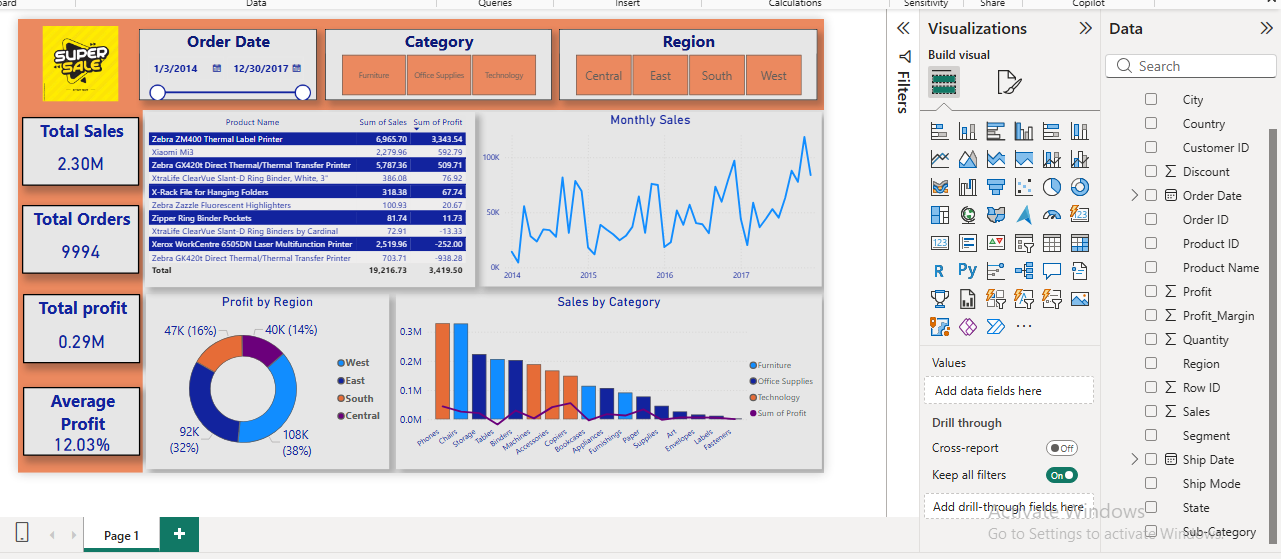

The page's visual inventory and layout, read from the dashboard file:
{"tool":"powerbi","page":{"name":"Page 1","canvas":[1280,720],"ordinal":0},"visuals":[{"type":"shape","box":[0,0,1279.8,144.6],"z":0},{"type":"shape","box":[0,133.2,198.4,586.8],"z":1000},{"type":"image","box":[22.7,11.3,154.5,120.5],"z":2000},{"type":"card","title":"Total Sales","fields":{"Values":["Sum(Sample_ Superstore(in).Sales)"]},"box":[5.7,155.9,185.7,109.1],"z":3000},{"type":"card","title":"Total Orders","fields":{"Values":["CountNonNull(Sample_ Superstore(in).Customer ID)"]},"box":[7.1,294.8,185.7,109.1],"z":4000},{"type":"card","title":"Average Profit","fields":{"Values":["Avg(Sample_ Superstore(in).Profit_Margin)"]},"box":[7.1,584.3,185.7,108.6],"z":5000},{"type":"card","title":"Total profit","fields":{"Values":["Sum(Sample_ Superstore(in).Profit)"]},"box":[7.1,437.1,185.7,110],"z":6000},{"type":"slicer","title":"Order Date","fields":{"Values":["Sample_ Superstore(in).Order Date"]},"box":[192.8,15.6,282,113.4],"z":7000},{"type":"slicer","title":"Category","fields":{"Values":["Sample_ Superstore(in).Category"]},"box":[487.6,15.6,360,113.4],"z":8000},{"type":"slicer","title":"Region","fields":{"Values":["Sample_ Superstore(in).Region"]},"box":[858.9,15.6,409.6,113.4],"z":9000},{"type":"donutChart","title":"Profit by Region","fields":{"Category":["Sample_ Superstore(in).Region"],"Y":["Sum(Sample_ Superstore(in).Profit)"]},"box":[202.8,437,385.6,278.2],"z":10000},{"type":"lineStackedColumnComboChart","title":"Sales by Category","fields":{"Y":["Sum(Sample_ Superstore(in).Sales)"],"Category":["Sample_ Superstore(in).Sub-Category"],"Series":["Sample_ Superstore(in).Category"],"Y2":["Sum(Sample_ Superstore(in).Profit)"]},"box":[600,437,675.9,278.2],"z":11000},{"type":"lineChart","title":"Monthly Sales","fields":{"Y":["Sum(Sample_ Superstore(in).Sales)"],"Category":["Sample_ Superstore(in).Order Date.Variation.Date Hierarchy.Year","Sample_ Superstore(in).Order Date.Variation.Date Hierarchy.Month"]},"box":[731.5,147.2,544.4,276.9],"z":12000},{"type":"tableEx","title":"Monthly Sales","fields":{"Values":["Sample_ Superstore(in).Product Name","Sum(Sample_ Superstore(in).Sales)","Sum(Sample_ Superstore(in).Profit)"]},"box":[202.2,146.9,523.7,277.7],"z":12001}]}

Visuals, with their boxes on the page's 1280x720 design canvas (x1, y1, x2, y2). These are canvas units, not pixel positions in the 1281x559 screenshot, which may show the page scaled, cropped or inside an application window:
shape: <region>0, 0, 1280, 145</region>
shape: <region>0, 133, 198, 720</region>
image: <region>23, 11, 177, 132</region>
"Total Sales" card: <region>6, 156, 191, 265</region>
"Total Orders" card: <region>7, 295, 193, 404</region>
"Average Profit" card: <region>7, 584, 193, 693</region>
"Total profit" card: <region>7, 437, 193, 547</region>
"Order Date" slicer: <region>193, 16, 475, 129</region>
"Category" slicer: <region>488, 16, 848, 129</region>
"Region" slicer: <region>859, 16, 1268, 129</region>
"Profit by Region" donutChart: <region>203, 437, 588, 715</region>
"Sales by Category" lineStackedColumnComboChart: <region>600, 437, 1276, 715</region>
"Monthly Sales" lineChart: <region>732, 147, 1276, 424</region>
"Monthly Sales" tableEx: <region>202, 147, 726, 425</region>
